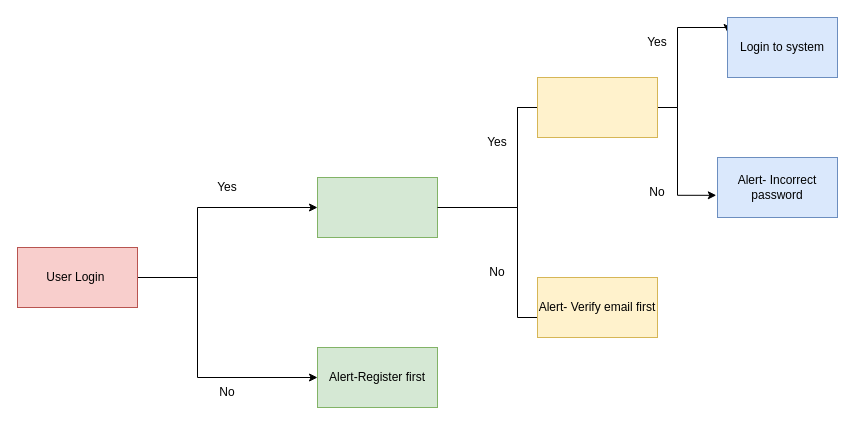
Some shapes in this 855 by 425 pixel diagram are drawn without their labels. Here are the shapes that lost their labels. From the top down, the centre of each, then its label:
At point (597, 107): "Check Password".
At point (377, 207): "Email Verified ?".
